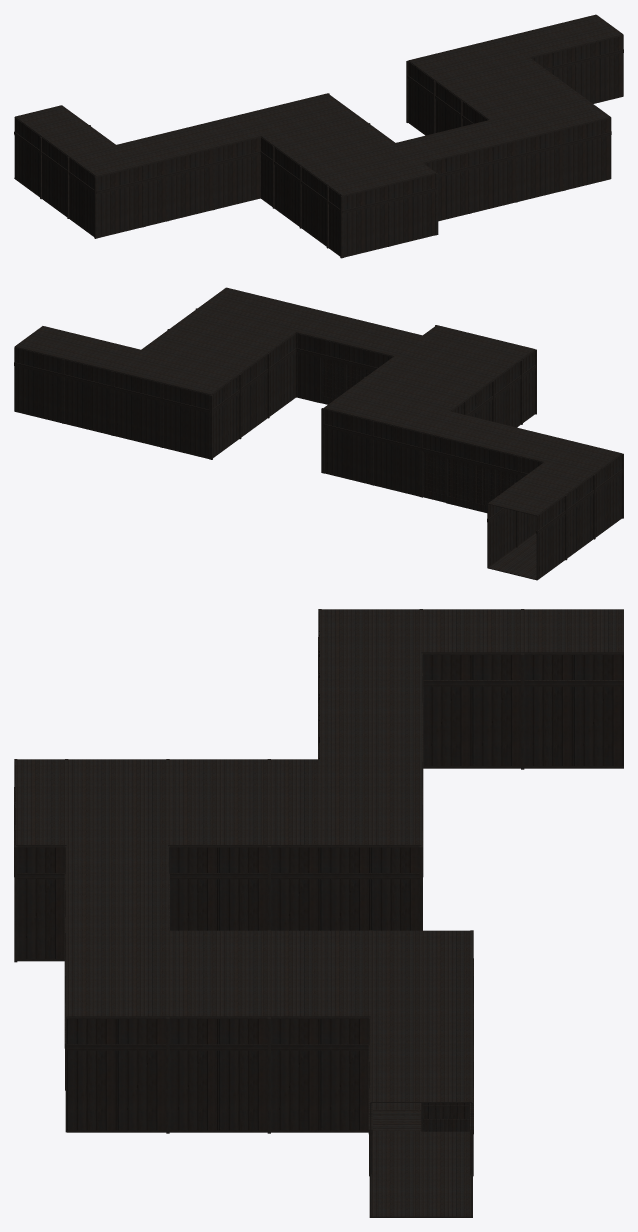
Rendered from stage_001.fbx.
The picture shows the model from 3 angles, top to bottom: view 1: azimuth 30°, elevation 25°; view 2: azimuth 150°, elevation 25°; view 3: azimuth 270°, elevation 25°; orthographic projection. The views are drawn at different scales.
Visible parts, largest first — view 1: kabe49, kabe72, kabe43, kabe45, kabe5, kabe47, kabe6, kabe4, kabe48, kabe44, kabe46, kabe3 (+48 smaller); view 2: syoujido3, kabe71, syoujido2, kabe13, kabe57, kabe41, kabe70, kabe68, kabe1, kabe14, kabe58, kabe59 (+25 smaller); view 3: kabe67, kabe38, kabe64, kabe66, kabe65, kabe37, kabe35, kabe63, kabe77, kabe62, kabe25, kabe11 (+116 smaller).
Boxes of the visible parts, x1=… form: kabe49: x1=587, y1=117, x2=611, y2=184; kabe72: x1=600, y1=35, x2=623, y2=102; kabe43: x1=446, y1=152, x2=470, y2=219; kabe45: x1=493, y1=140, x2=517, y2=207; kabe5: x1=190, y1=148, x2=214, y2=215; kabe47: x1=540, y1=129, x2=564, y2=196; kabe6: x1=167, y1=154, x2=190, y2=220; kabe4: x1=214, y1=142, x2=237, y2=209; kabe48: x1=564, y1=123, x2=587, y2=189; kabe44: x1=470, y1=146, x2=493, y2=212; kabe46: x1=517, y1=135, x2=540, y2=201; kabe3: x1=237, y1=137, x2=260, y2=203; syoujido3: x1=445, y1=438, x2=470, y2=508; kabe71: x1=14, y1=347, x2=38, y2=417; syoujido2: x1=470, y1=445, x2=495, y2=512; kabe13: x1=347, y1=414, x2=371, y2=484; kabe57: x1=161, y1=383, x2=186, y2=453; kabe41: x1=296, y1=333, x2=320, y2=403; kabe70: x1=38, y1=353, x2=63, y2=422; kabe68: x1=87, y1=365, x2=112, y2=434; kabe1: x1=396, y1=426, x2=420, y2=496; kabe14: x1=323, y1=408, x2=347, y2=478; kabe58: x1=136, y1=377, x2=161, y2=446; kabe59: x1=112, y1=371, x2=136, y2=441; kabe67: x1=66, y1=1017, x2=117, y2=1132; kabe38: x1=573, y1=653, x2=623, y2=768; kabe64: x1=218, y1=1017, x2=268, y2=1132; kabe66: x1=117, y1=1017, x2=167, y2=1132; kabe65: x1=168, y1=1017, x2=218, y2=1132; kabe37: x1=524, y1=653, x2=573, y2=768; kabe35: x1=472, y1=653, x2=522, y2=768; kabe63: x1=269, y1=1017, x2=319, y2=1132; kabe77: x1=422, y1=653, x2=471, y2=768; kabe62: x1=320, y1=1017, x2=369, y2=1132; kabe25: x1=16, y1=846, x2=65, y2=961; kabe11: x1=320, y1=846, x2=370, y2=930.
Size of the model in its own units: 4613 by 505 by 2407.
